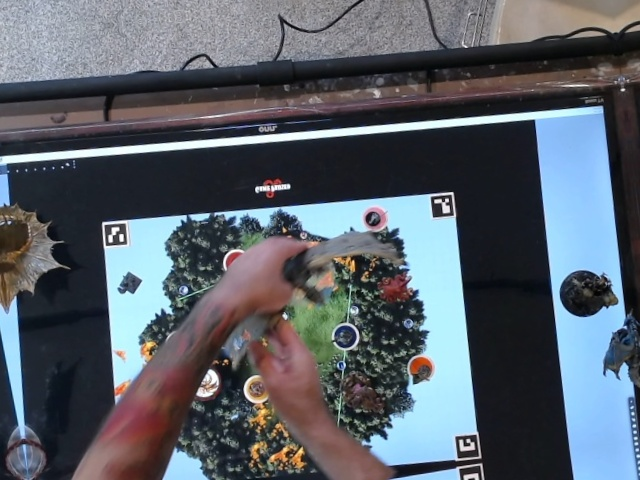blue: (331, 318, 365, 352)
orange: (399, 347, 441, 388)
pink: (358, 203, 393, 234)
red: (215, 244, 253, 280)
yellow: (239, 369, 277, 408)
